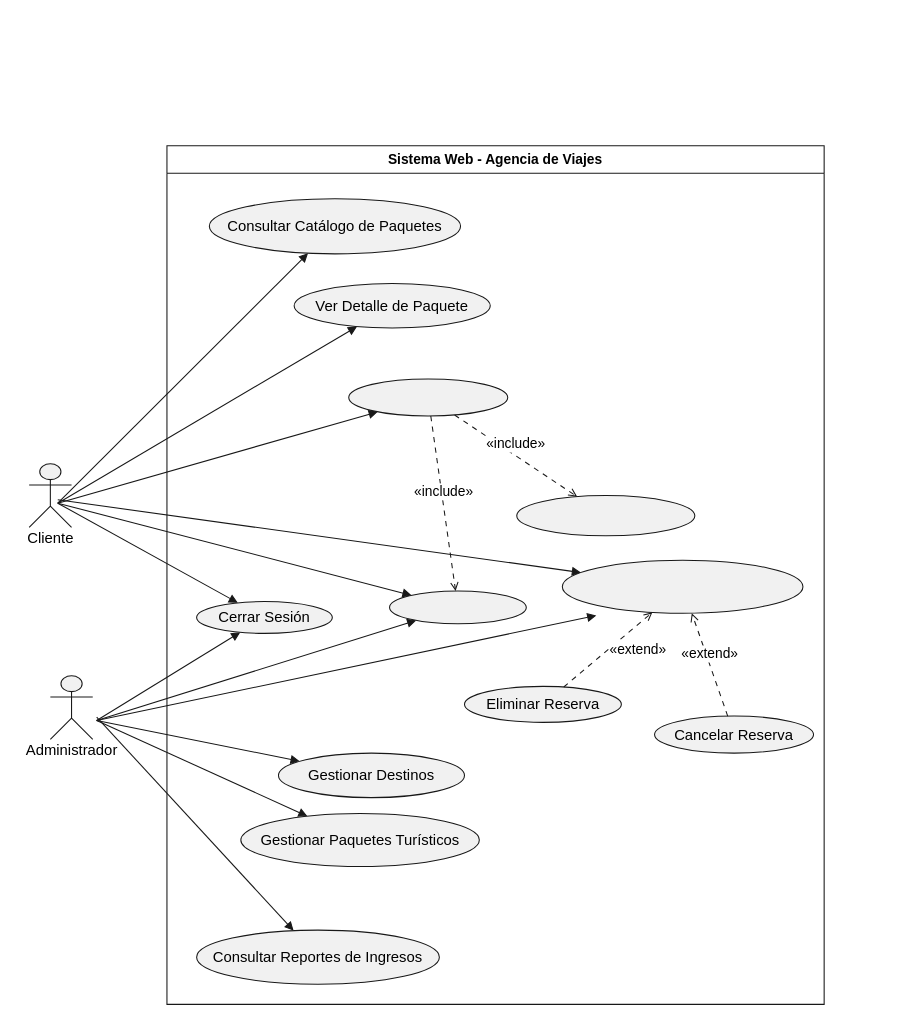
Image size: 906x1023. Some labels were removed from this diagram. Here are the shapes that lost their labels. From the top down, the box of each, then its label:
(348, 378, 508, 416): Registrar Reserva
(516, 494, 695, 536): Calcular Costo Total
(561, 559, 803, 613): Consultar Reservas Realizadas
(388, 590, 526, 624): Iniciar Sesión
